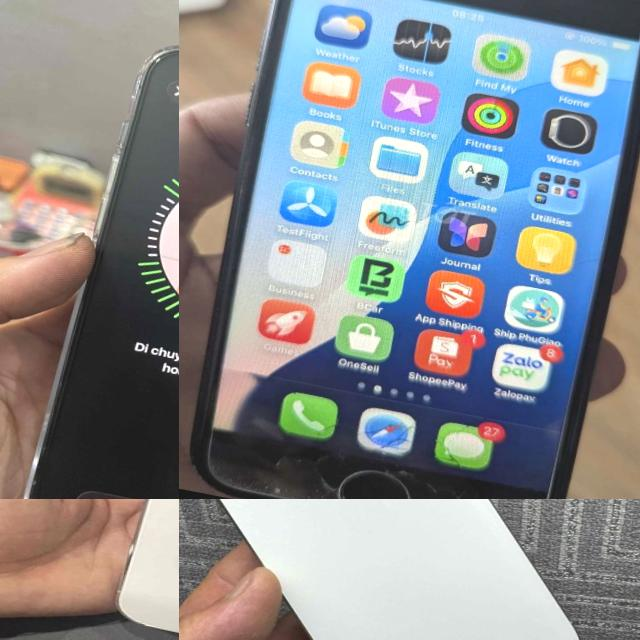scratch: (231, 442, 529, 499)
